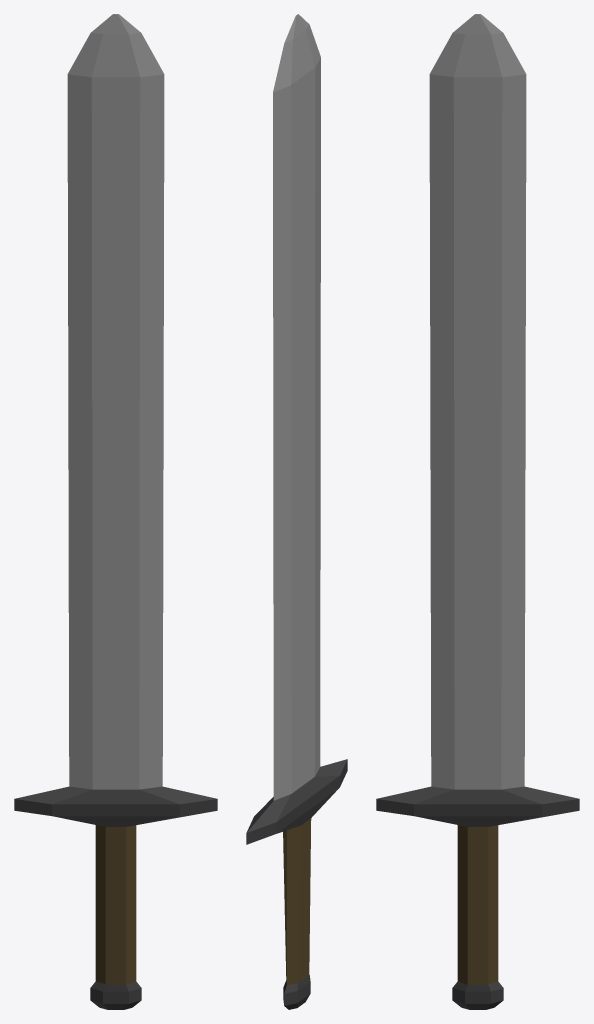
File: Sword1.fbx
3 renders of one model, left to right at view 1: azimuth 90°, elevation 25°; view 2: azimuth 150°, elevation 25°; view 3: azimuth 270°, elevation 25°, orthographic.
Visible parts, largest first — view 1: Cylinder; view 2: Cylinder; view 3: Cylinder.
Boxes of the visible parts, x1,y1,x2,y2 form: Cylinder: (14, 14, 217, 1009); Cylinder: (246, 14, 347, 1009); Cylinder: (376, 14, 579, 1009).
Bounding box in the file's own units: 9.92 × 418 × 77.59.
